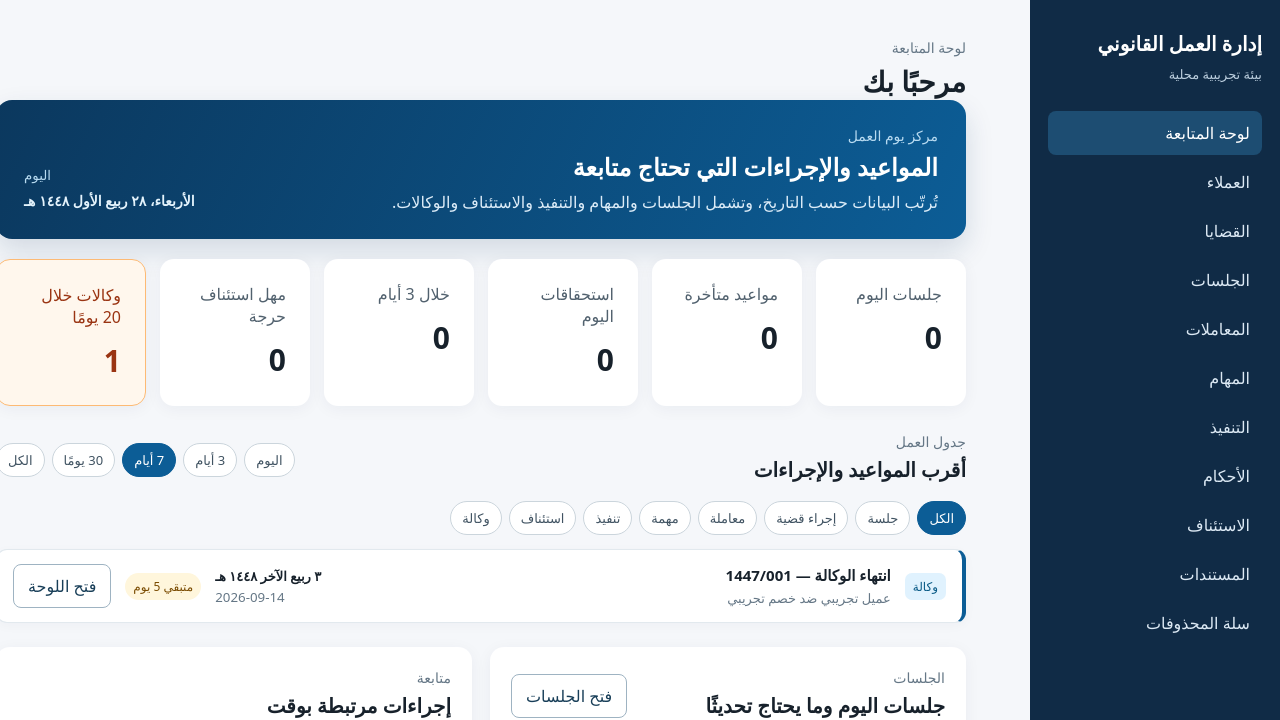
it: واجهة التطبيق › تعرض مركز المواعيد وتنتقل إلى اللوحة المرتبطة من عنصر المتابعة
This screenshot has width=1280, height=720.
Click the button "وكالة".
click(476, 518)  # box [450, 501, 502, 535]
(page scrolled)
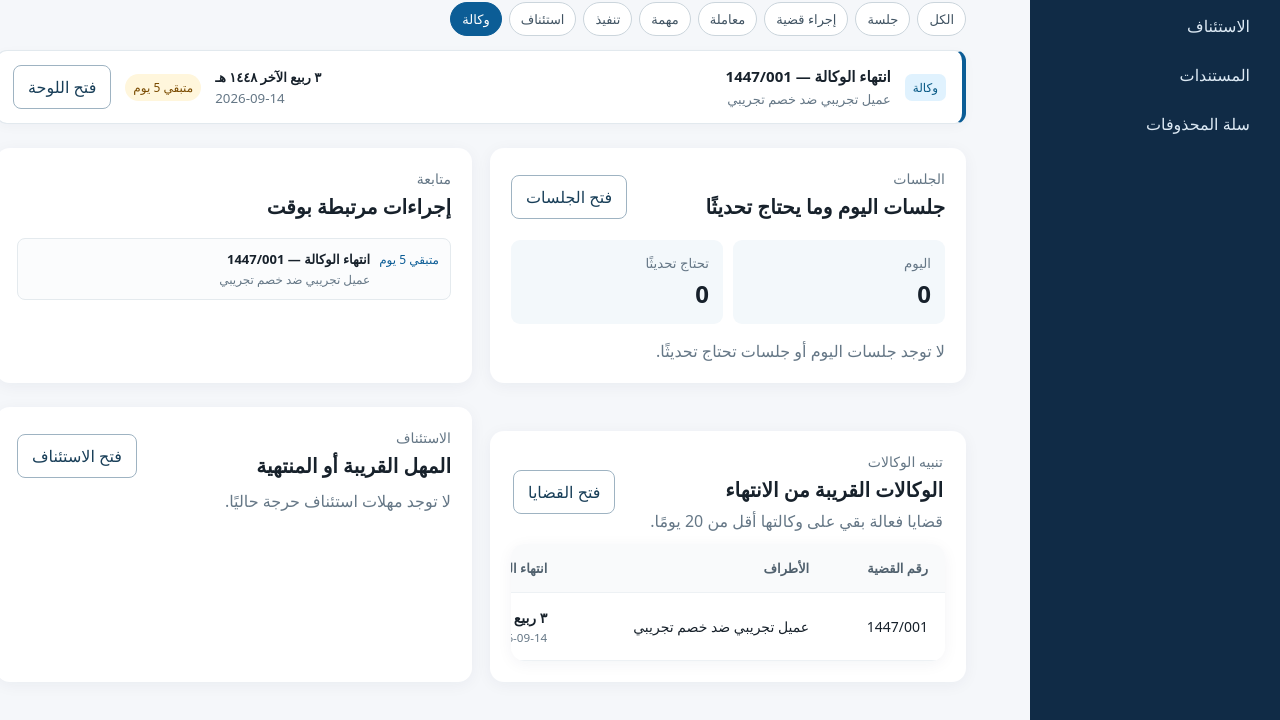
Expected: the text "انتهاء الوكالة" is shown, [726, 66, 891, 86]
Click the button "فتح القضايا".
click(564, 492)  # box [513, 470, 616, 514]
(page scrolled)
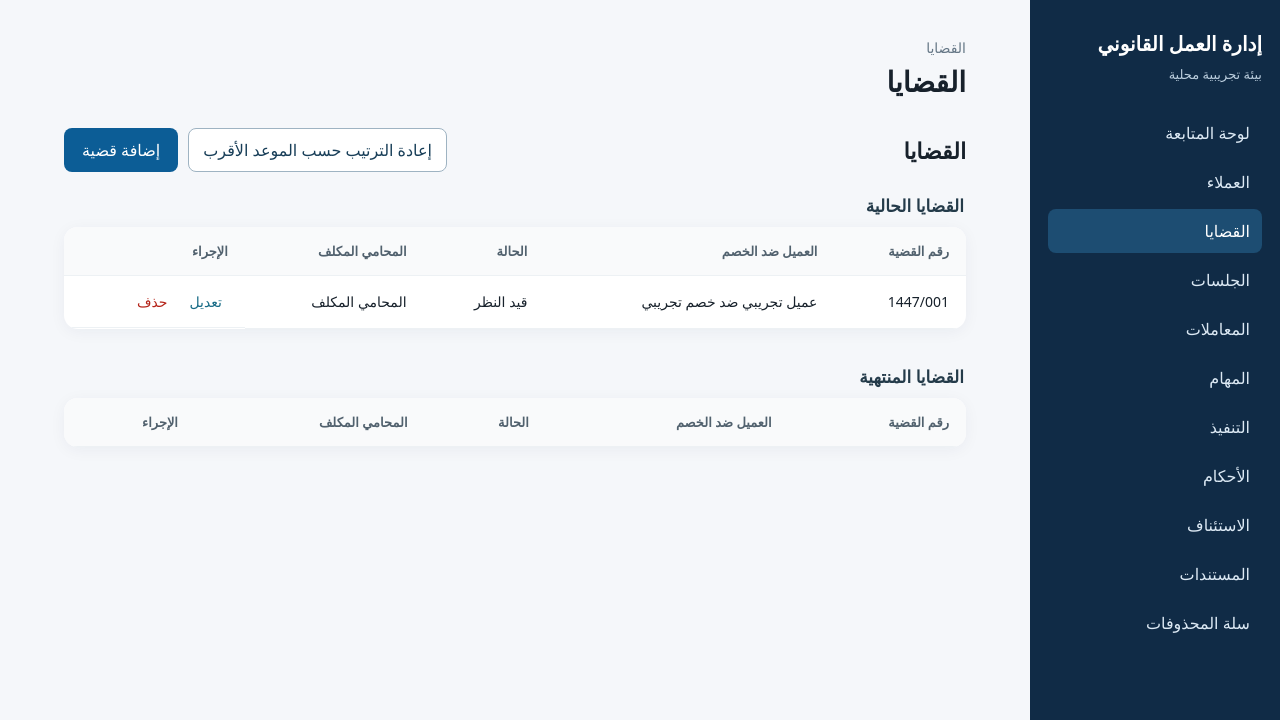
Expected: the text "القضايا الحالية" is shown, [866, 194, 964, 217]
